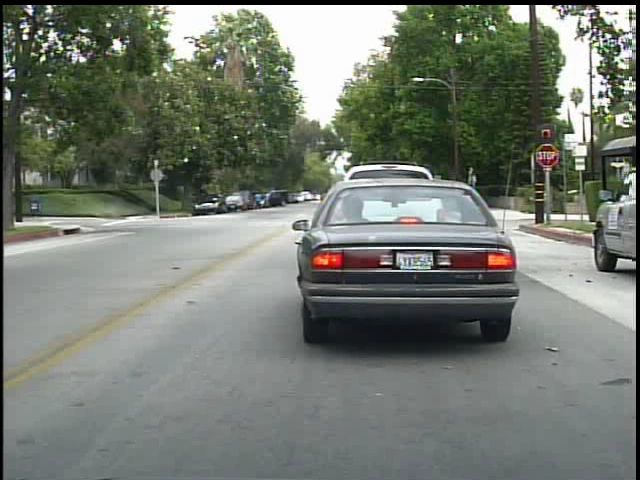person: (253, 189, 265, 212)
